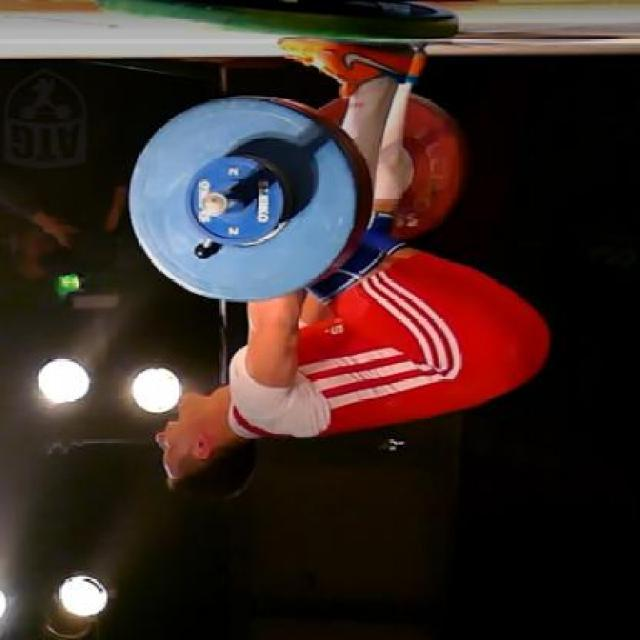Barbell: (199, 188, 227, 218)
